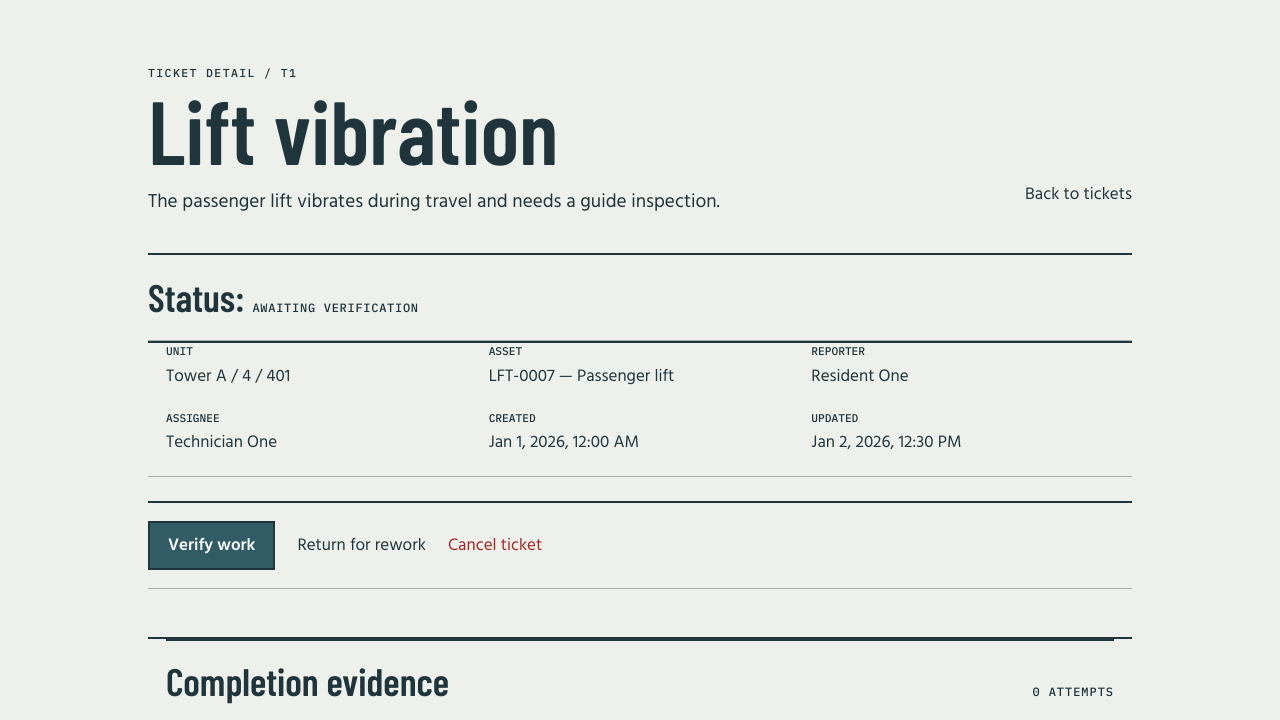
Test case: Ticket client workflow › exposes only Administrator verification actions as one named group
Check: the element named "Ticket actions" is shown, box [148,501,1132,589]
Check: the button "Return for rework" is shown, box [297,521,426,570]
Click the button "Verify work".
click(212, 546)  # box [148,521,275,570]
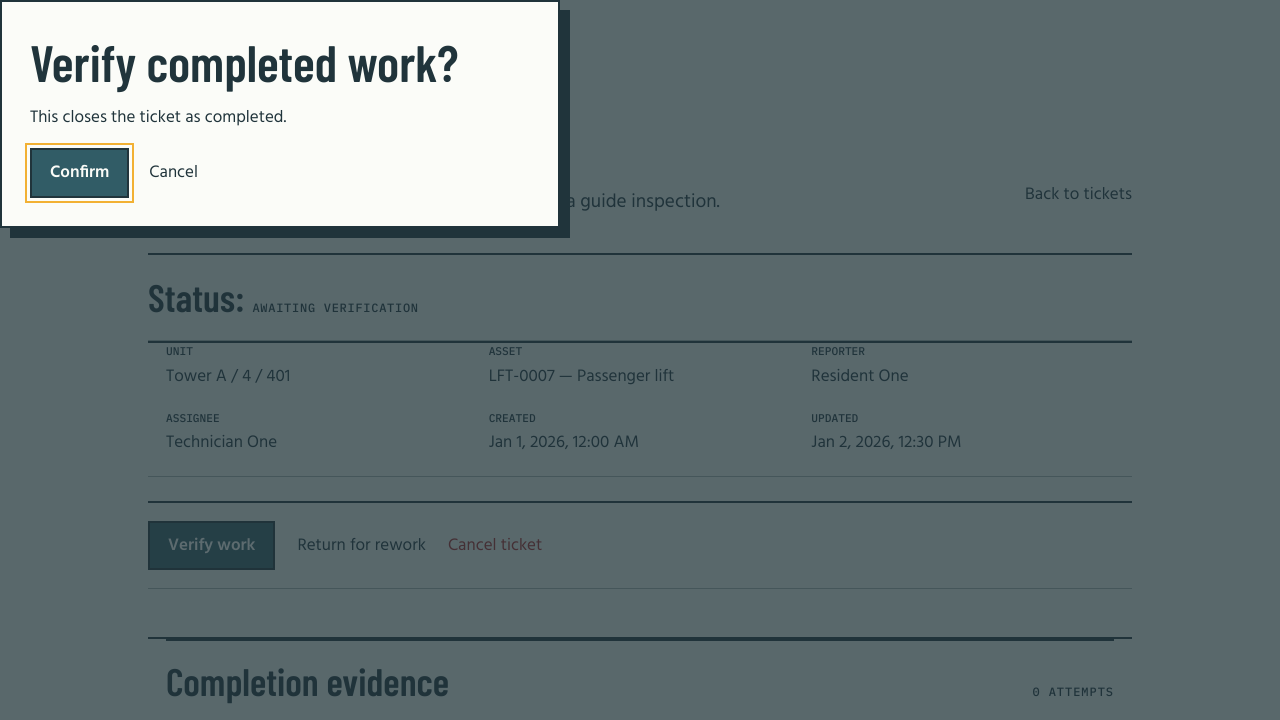
Click the button "Confirm".
click(80, 173)  # box [30,148,129,198]
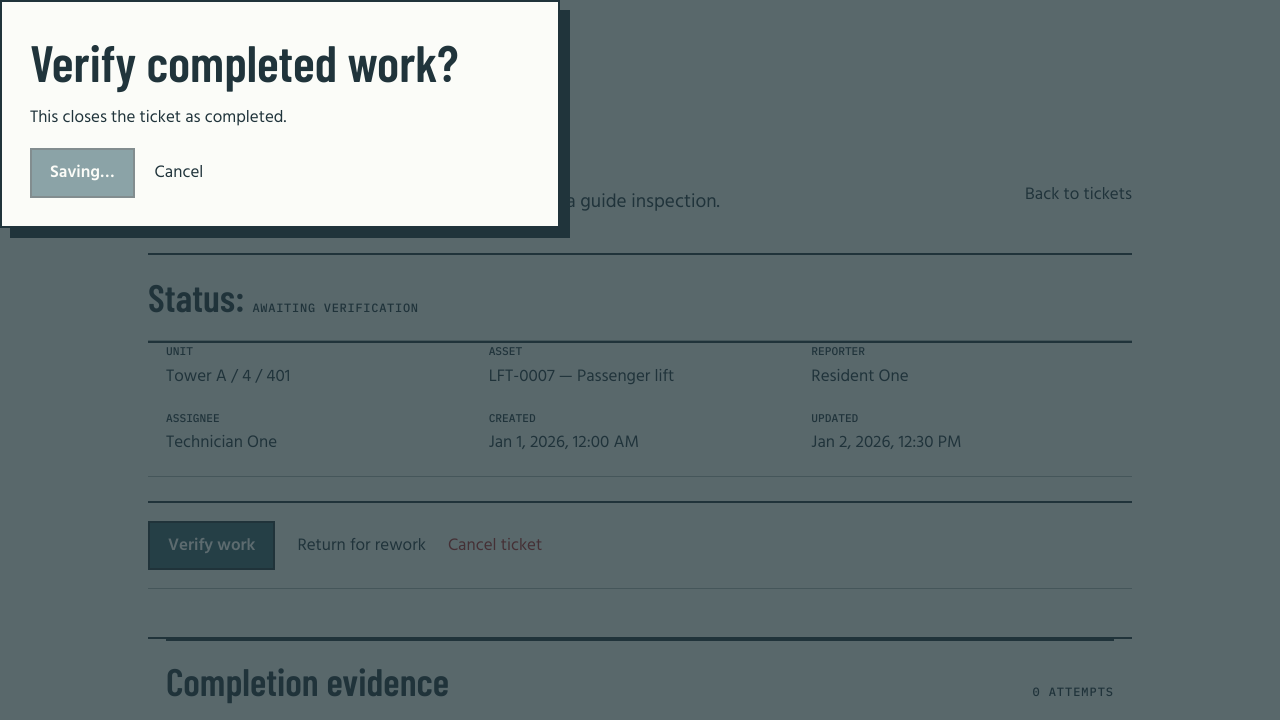
Check: the button "Saving…" is disabled, box [30,148,135,198]
